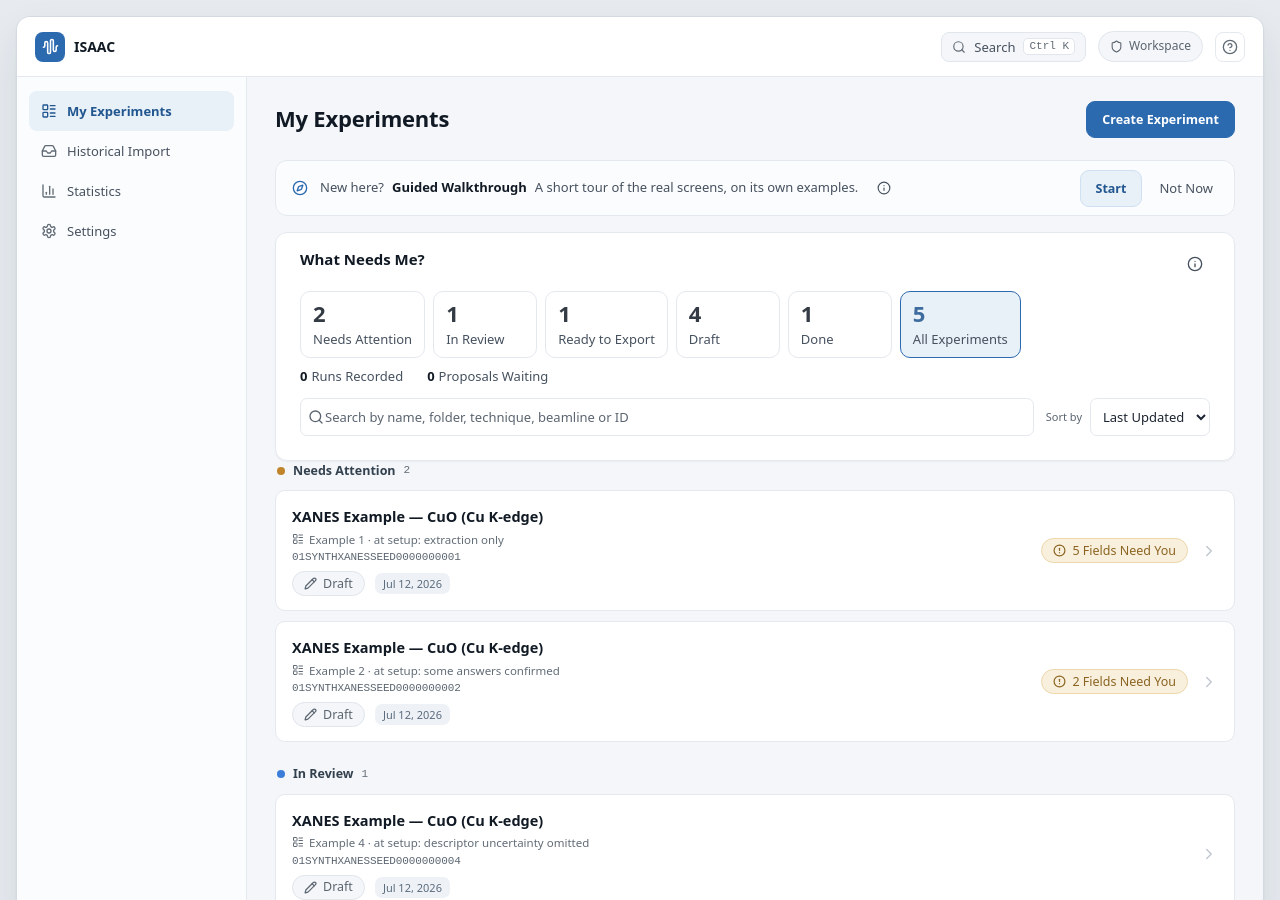
Scenario: worked-example session — creation failure › T4 · a failed create enters NOTHING: no overlay, no scope, and a truthful message
The image size is (1280, 900).
Click the button with aria-label "Start Guided Walkthrough". click: (1111, 188)
box: top-left (1080, 170), bottom-right (1142, 207)
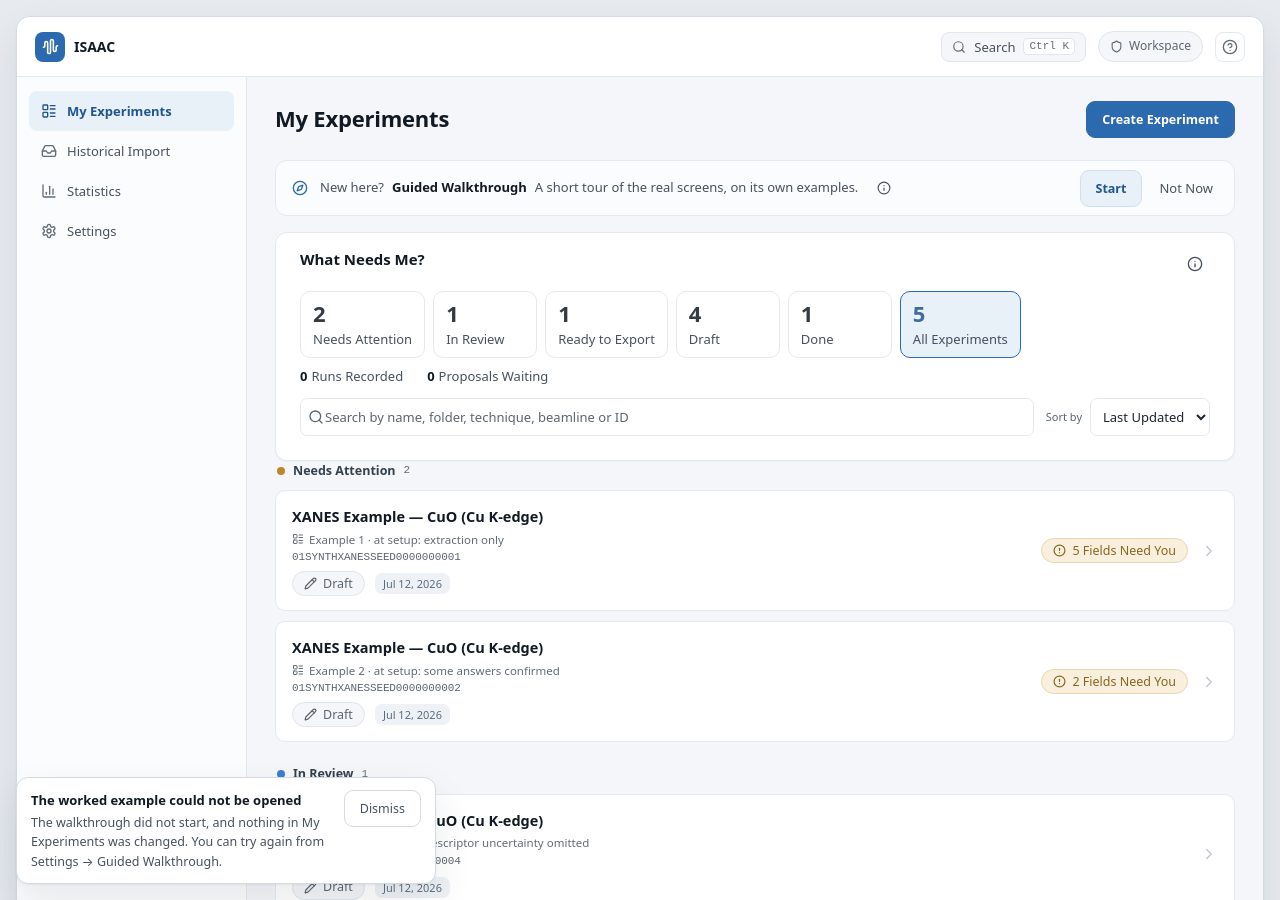
Check: the message is shown, box top-left (16, 777), bottom-right (436, 884)
Check: the message shows "The worked example could not be opened", box top-left (31, 791), bottom-right (302, 809)
Check: the message shows "did not start", box top-left (31, 814), bottom-right (324, 870)
